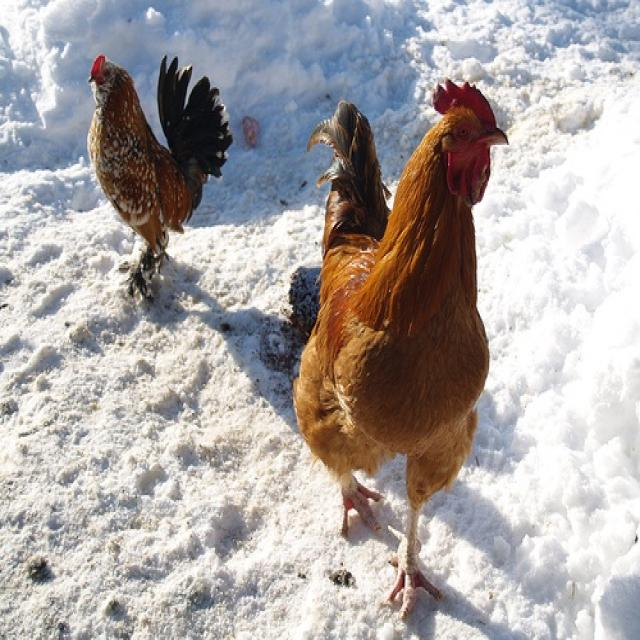bird: (298, 77, 507, 614), (82, 53, 226, 302)
